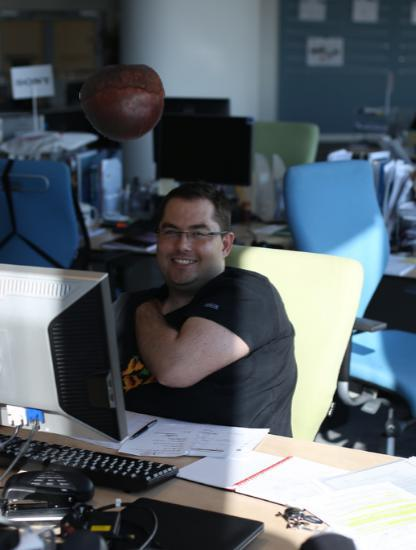Chestnut: (79, 60, 166, 147)
